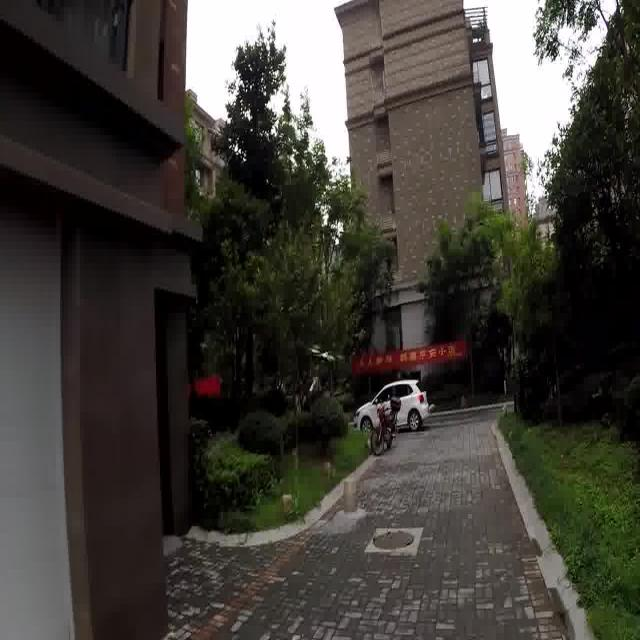drones: (303, 337, 348, 373)
